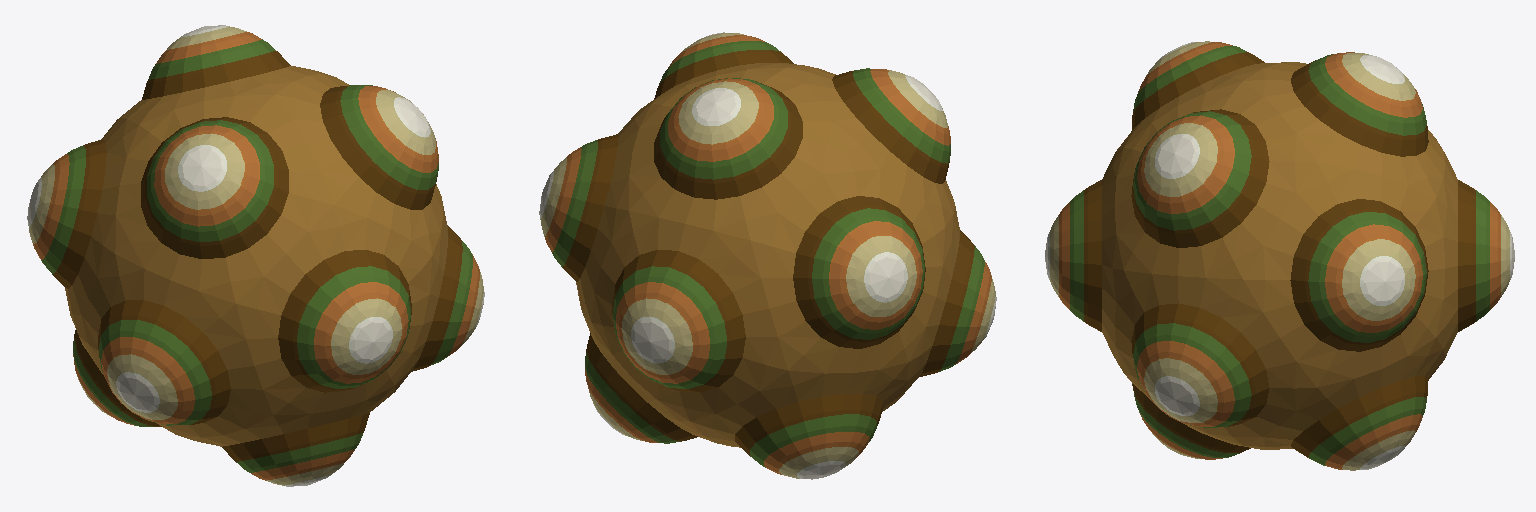
The picture shows the model from 3 angles: view 1: azimuth 30°, elevation 25°; view 2: azimuth 150°, elevation 25°; view 3: azimuth 270°, elevation 25°; orthographic projection.
Visible parts, largest first — view 1: core_07_0; view 2: core_07_0; view 3: core_07_0.
Boxes of the visible parts, <box> form: core_07_0: <box>27,25,484,486</box>; core_07_0: <box>539,32,996,479</box>; core_07_0: <box>1045,41,1514,470</box>.
Bounding box in the file's own units: 0.0478 × 0.0494 × 0.0537.
1 materials, 1 textured.